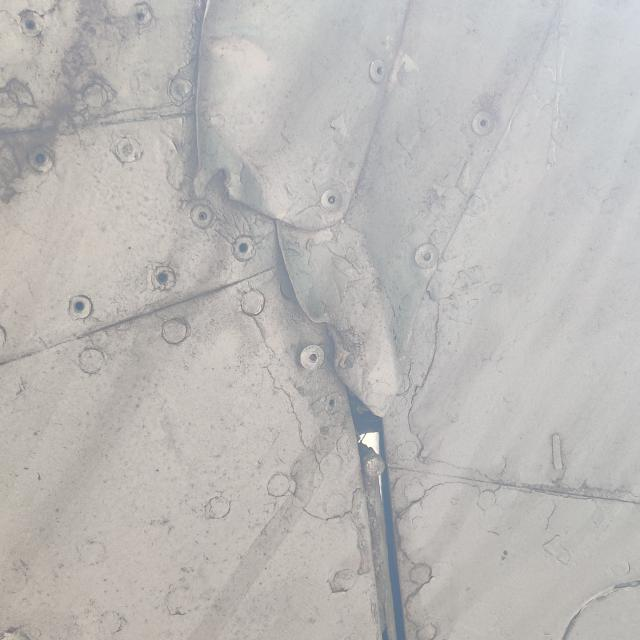crack: (316, 315, 360, 383)
